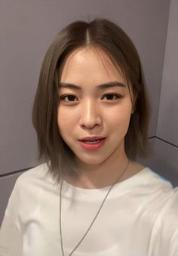fallWarm: (58, 53, 130, 163)
